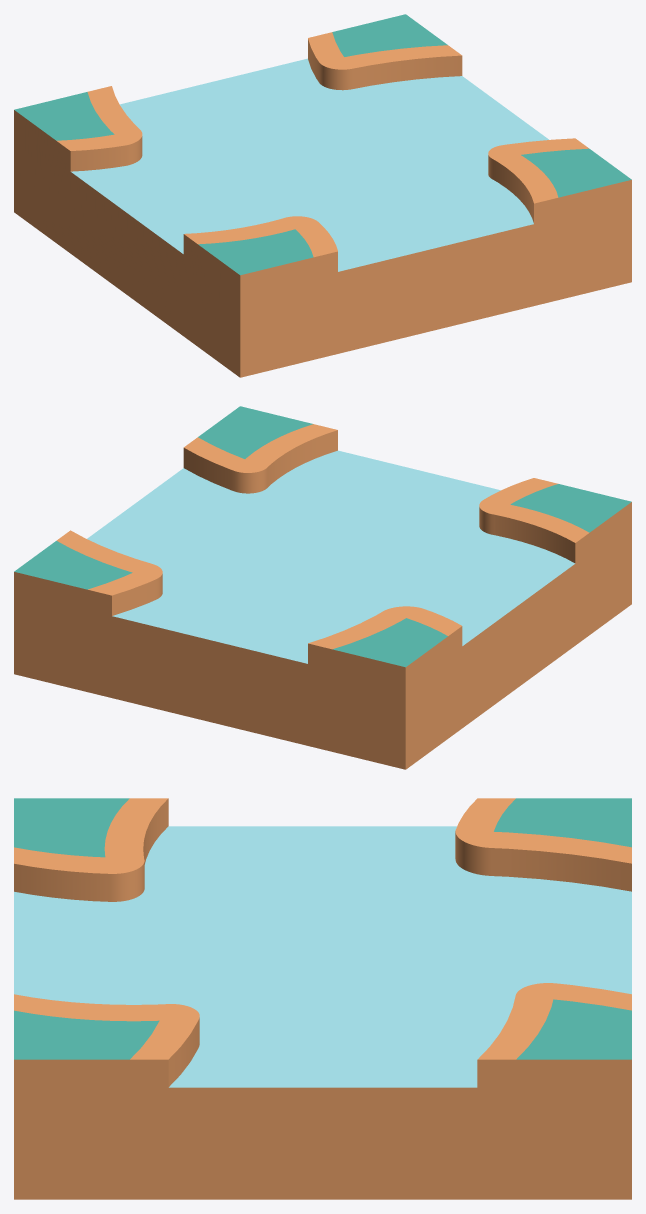
File: ground_dirtRiverCrossing.obj
3 renders of one model, top to bottom at view 1: azimuth 30°, elevation 25°; view 2: azimuth 150°, elevation 25°; view 3: azimuth 270°, elevation 25°, orthographic. The views are drawn at different scales.
Visible parts, largest first — view 1: ground_dirtRiverCrossing; view 2: ground_dirtRiverCrossing; view 3: ground_dirtRiverCrossing.
Part boxes in pixels (x1=…): ground_dirtRiverCrossing: x1=14, y1=14, x2=631, y2=377; ground_dirtRiverCrossing: x1=14, y1=406, x2=631, y2=769; ground_dirtRiverCrossing: x1=14, y1=798, x2=631, y2=1199.
Bounding box in the file's own units: 10 × 2.5 × 10.
